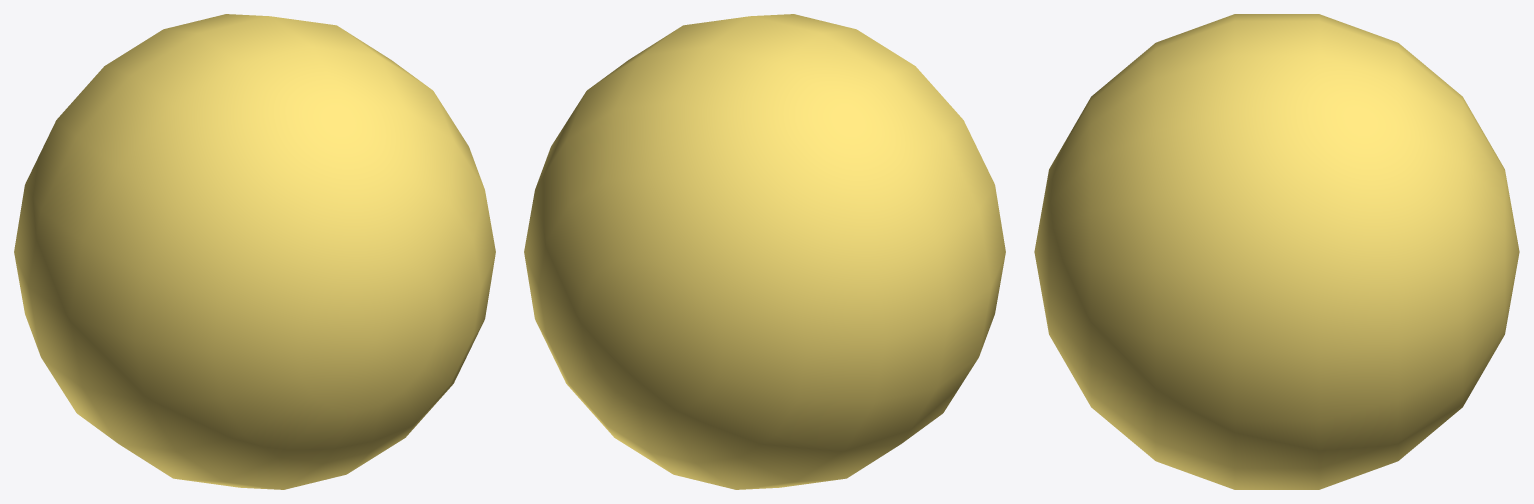
File: castor_wheel_visual.obj
3 views of the same model, side by side, from view 1: azimuth 30°, elevation 25°; view 2: azimuth 150°, elevation 25°; view 3: azimuth 270°, elevation 25° (orthographic).
Visible parts, largest first — view 1: castor_wheel; view 2: castor_wheel; view 3: castor_wheel.
Boxes of the visible parts, box(x1,y1,x2,y2) form: castor_wheel: box(14, 14, 495, 489); castor_wheel: box(524, 14, 1005, 489); castor_wheel: box(1034, 14, 1519, 489).
Bounding box in the file's own units: 4.92 × 4.85 × 5.
